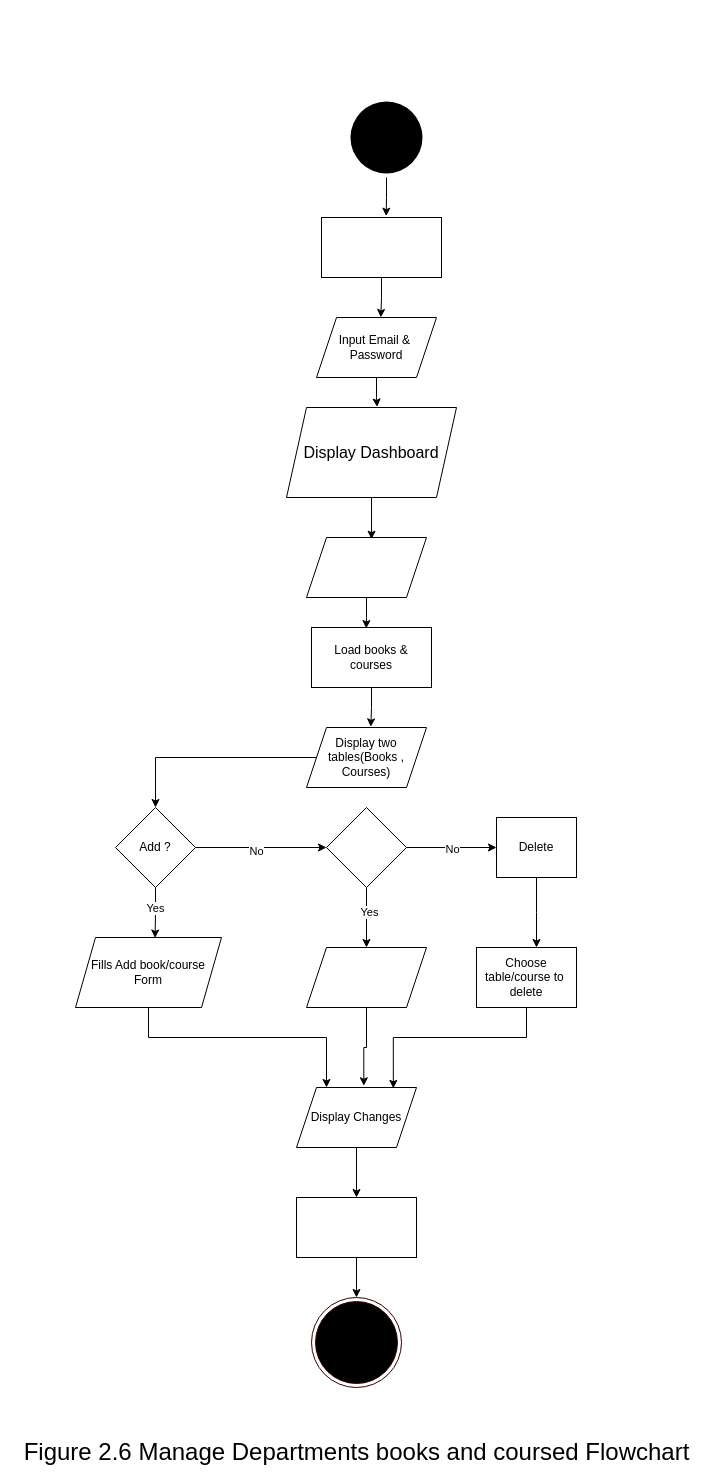
Image size: 713x1484. Some labels were removed from this diagram. The shapes that lost their labels are listed below. From the top down, each one's box as (x1, y1, x2, y2) in pixels, then its label:
(320, 216, 442, 278): Login
(306, 536, 426, 598): Select Department
(326, 806, 406, 888): Edit ?
(306, 946, 426, 1008): Edit inline table/ course row
(296, 1196, 416, 1258): Back to dashboared
